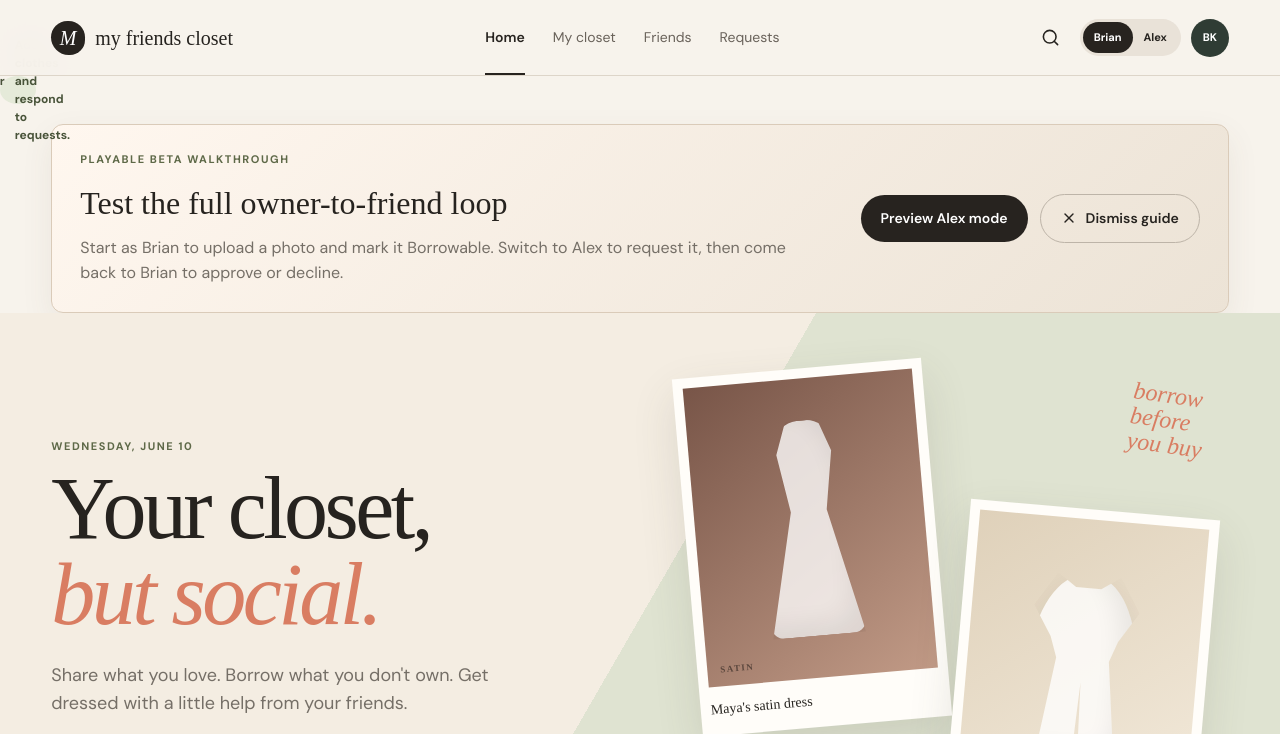
it: My Friends Closet playable beta › keeps private items out of friend view and shows shared items
Step 1. Click the button "Alex" → (1155, 38), box [1132, 22, 1178, 53]
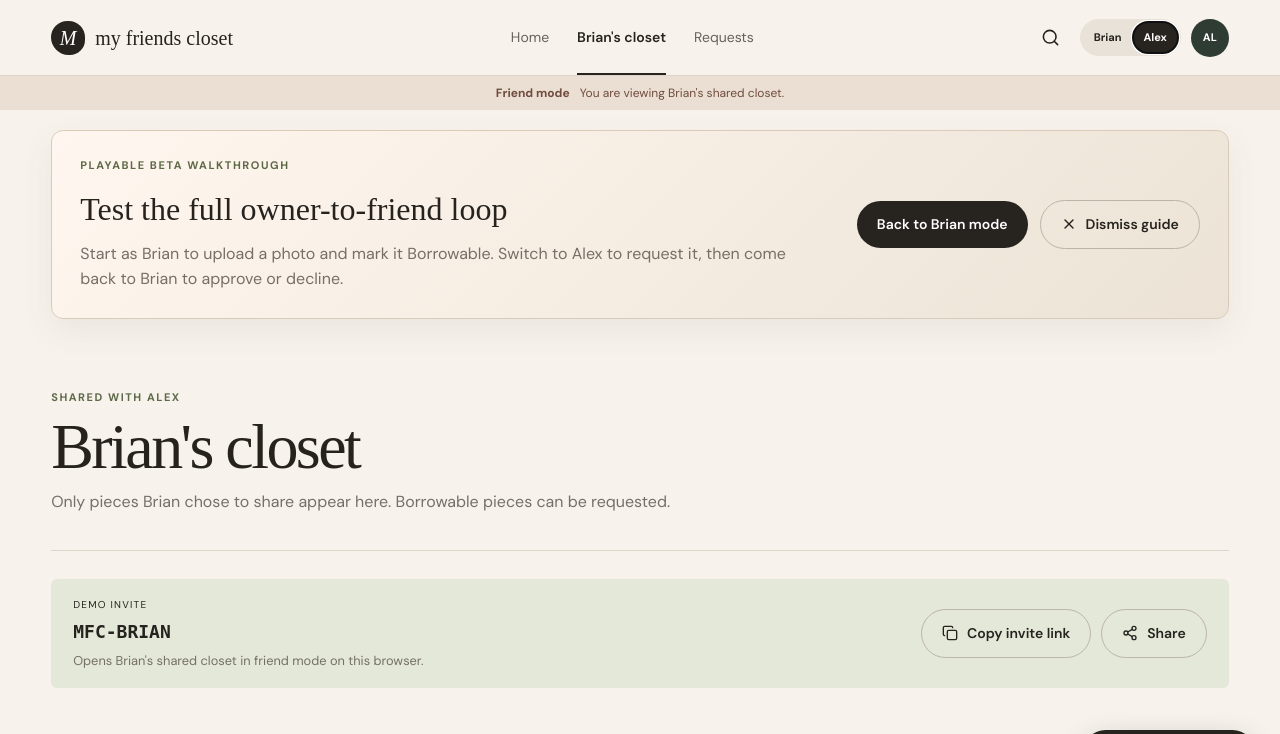
Expected: the text "Friend mode" is shown, [496, 84, 570, 102]
